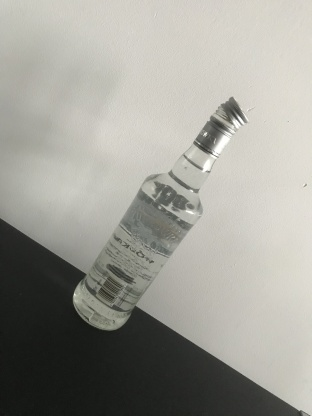nakretka: (191, 95, 250, 162)
